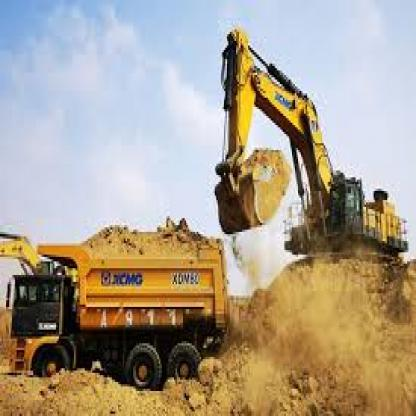dump_truck: (9, 212, 232, 396)
excavator: (216, 16, 414, 280)
